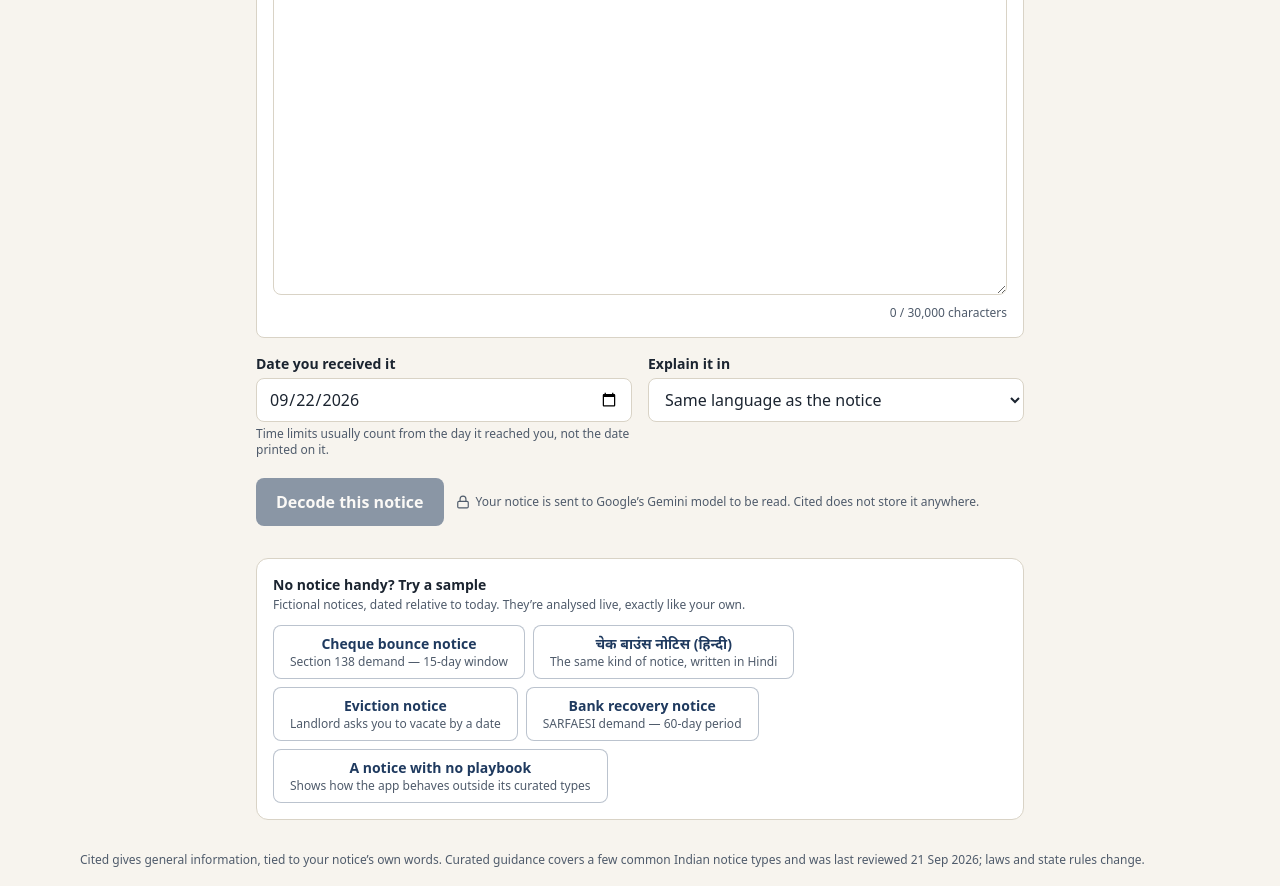
Test case: Ask about this notice › answers a typed question with a verified quote, and clears the box
The width and height of the screenshot is (1280, 886).
(page scrolled)
Click the button "Cheque bounce notice Section 138 demand — 15-day window" at {"x": 399, "y": 652}, box [273,625,525,679]
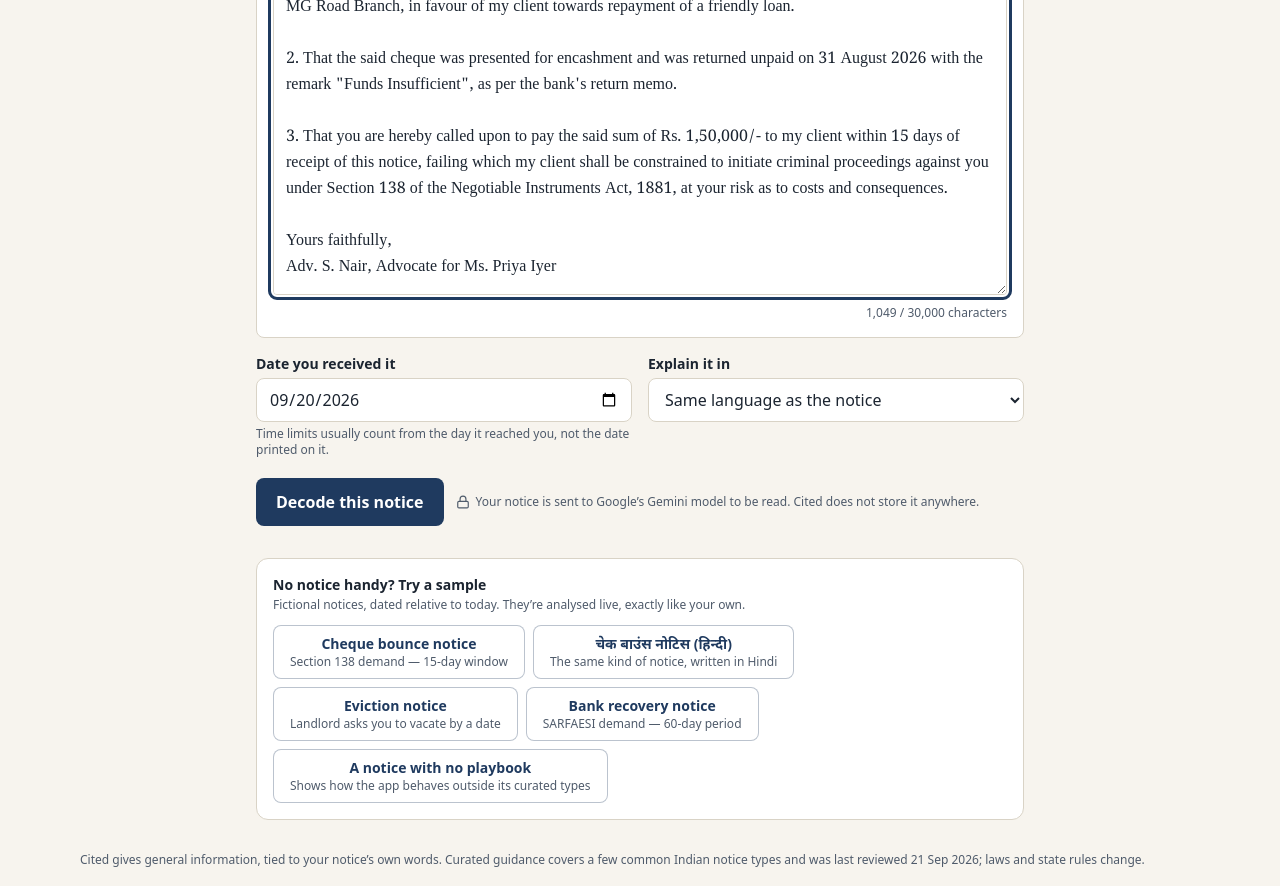
Click the button "Decode this notice" at {"x": 350, "y": 502}, box [256,478,444,526]
(page scrolled)
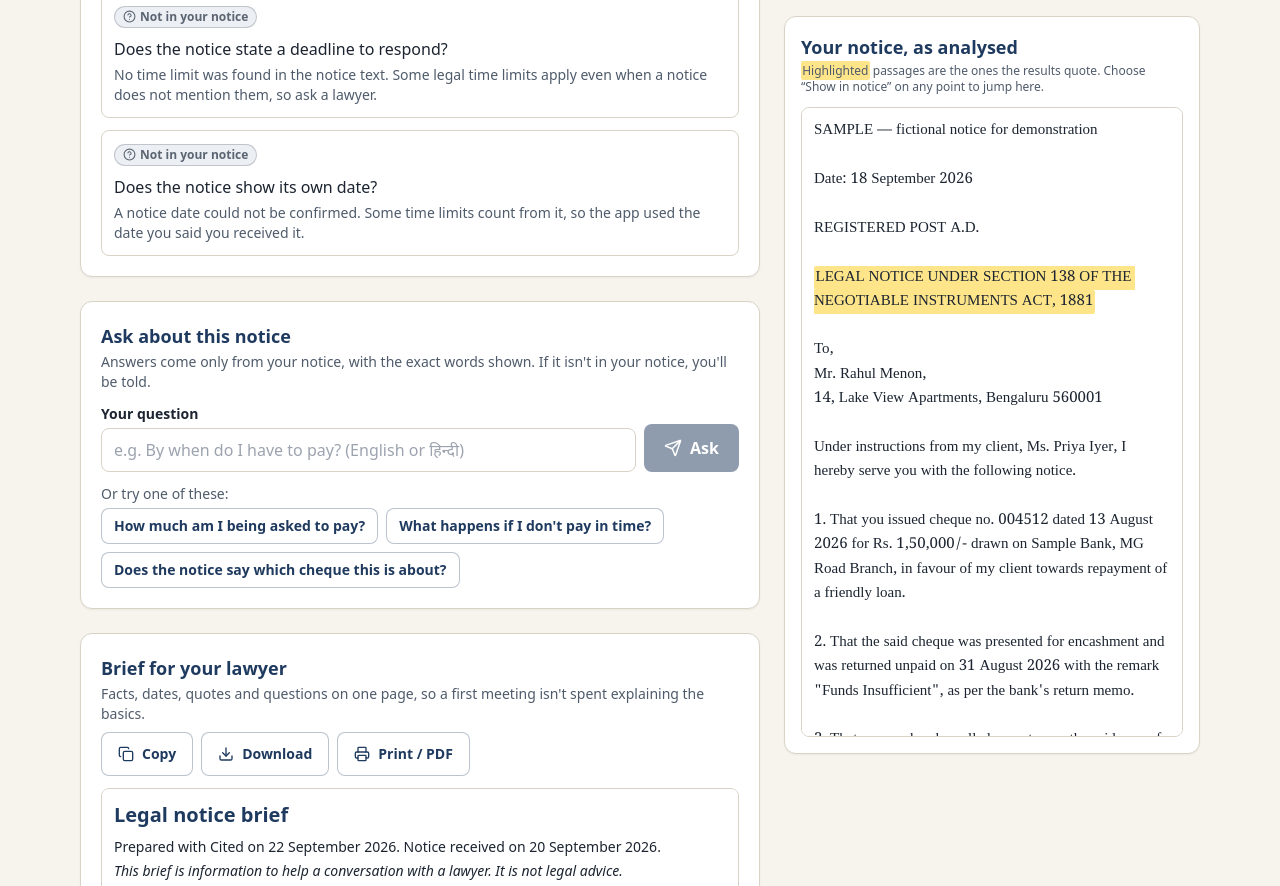
Type "How much do I have to pay?" into the field labelled "Your question" at {"x": 369, "y": 450}, box [101,428,636,472]
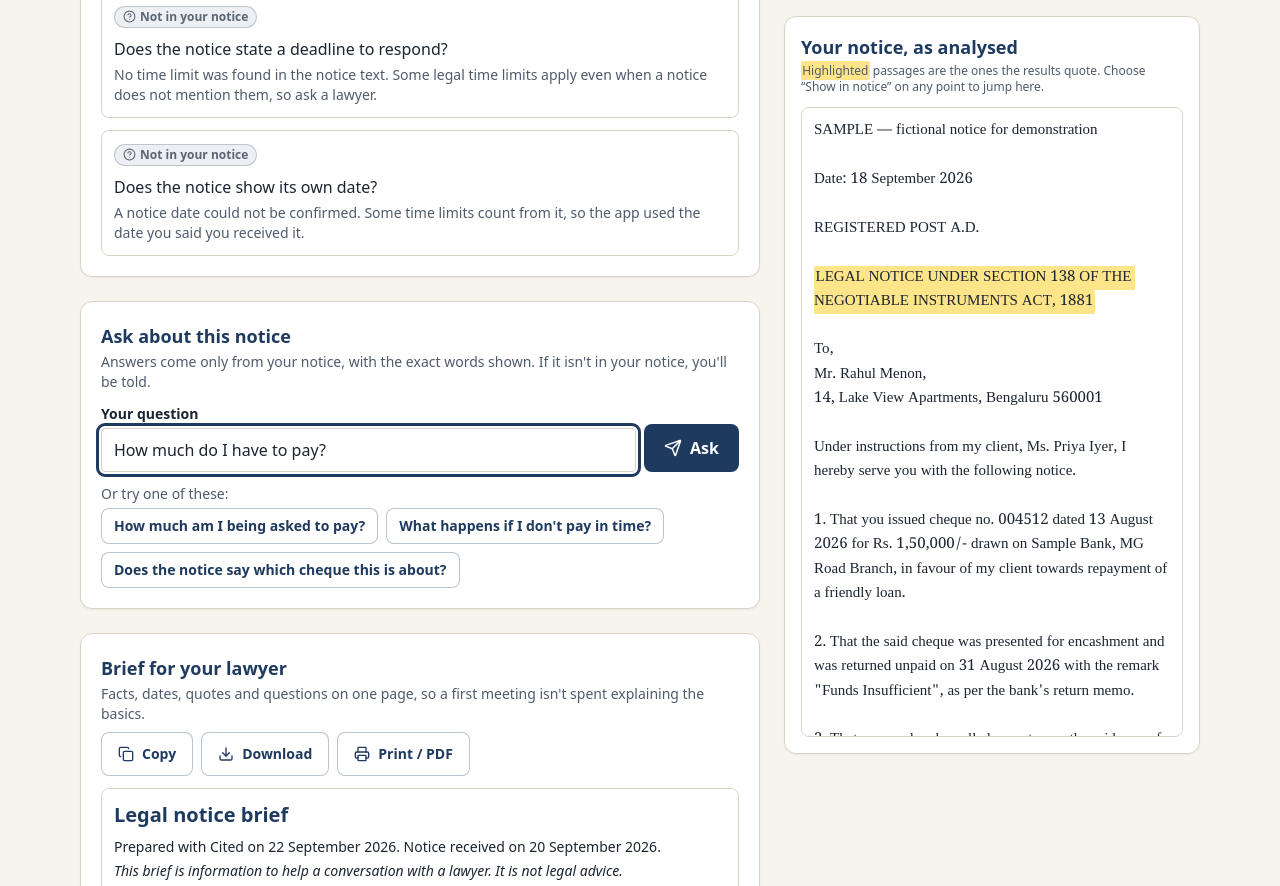
Click the button "Ask" at {"x": 692, "y": 448}, box [644,424,739,472]
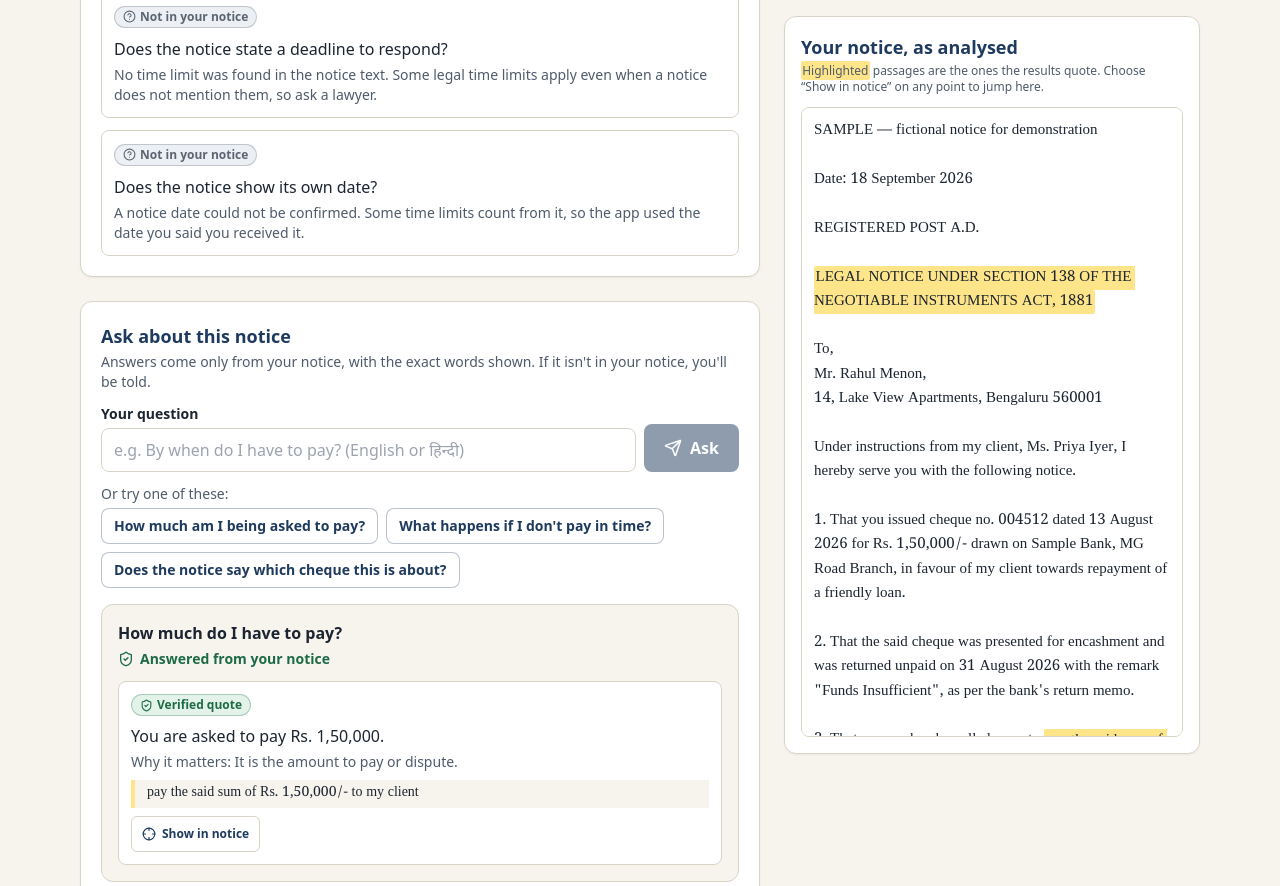
Expected: the text "Answered from your notice" is shown, [118,649,330,668]
Expected: the text "You are asked to pay Rs. 1,50,000." is shown, [131,725,384,747]
Expected: the text "Verified quote" is shown, [131,694,251,716]
